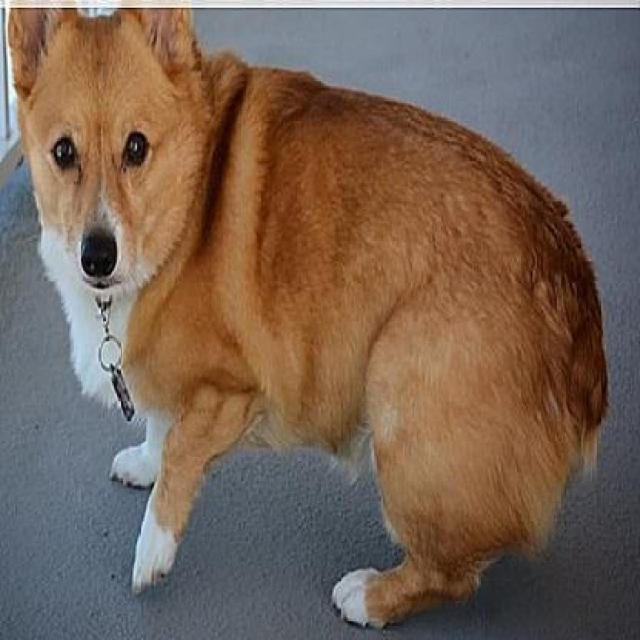Dog: (3, 7, 614, 638)
